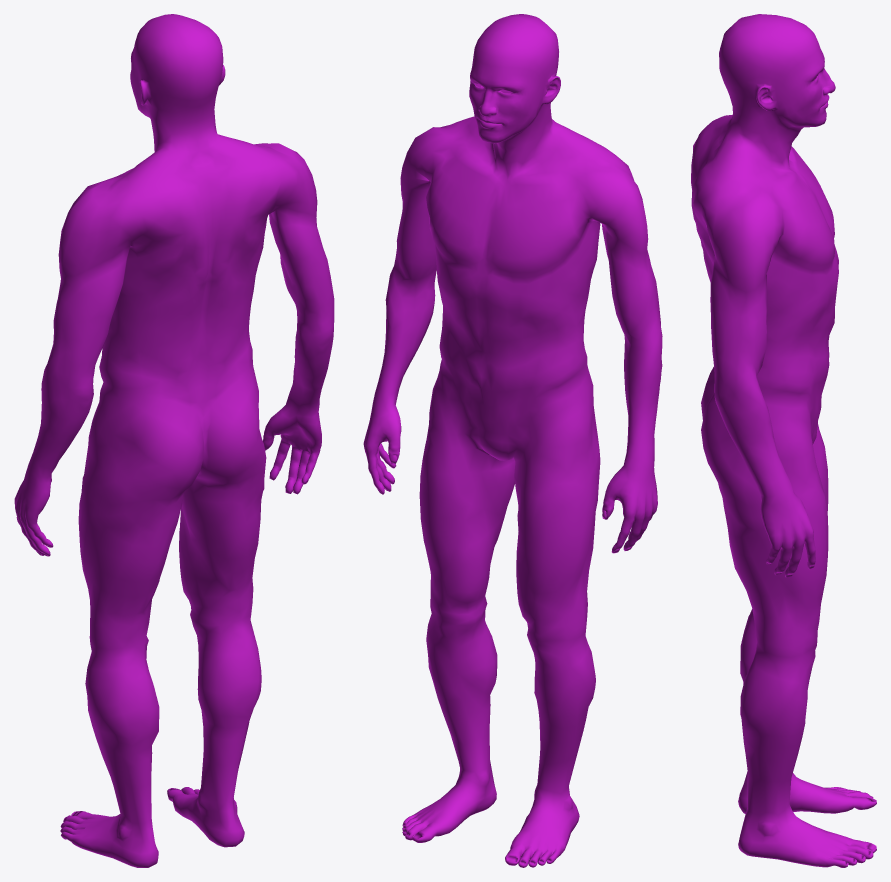
File: agent_1.obj
3 renders of one model, left to right at view 1: azimuth 30°, elevation 25°; view 2: azimuth 150°, elevation 25°; view 3: azimuth 270°, elevation 25°, orthographic. The views are drawn at different scales.
Parts seen in each view (by area): view 1: agent_1_Plane.004; view 2: agent_1_Plane.004; view 3: agent_1_Plane.004.
Boxes of the visible parts, box(x1,y1,x2,y2) form: agent_1_Plane.004: box(14, 14, 334, 867); agent_1_Plane.004: box(363, 14, 662, 867); agent_1_Plane.004: box(691, 14, 876, 867).
Size of the model in its own units: 0.6589 by 1.76 by 0.3643.
